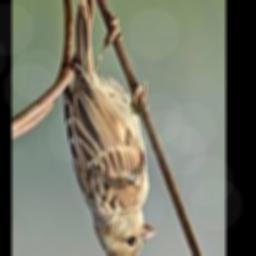Sparrow: (64, 0, 157, 256)
